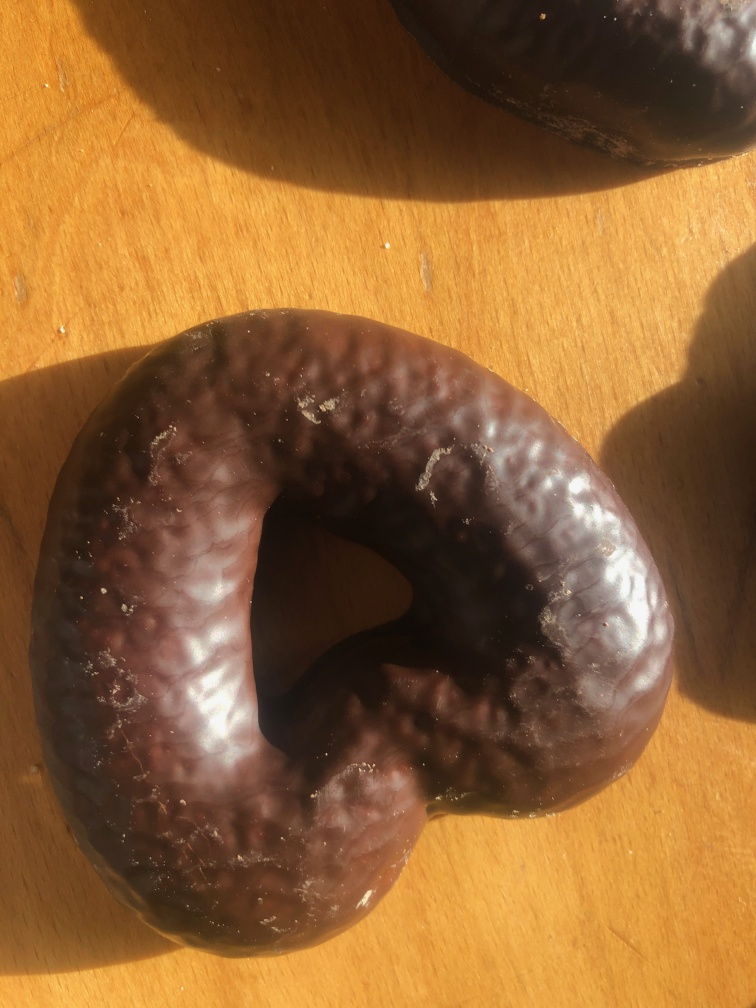heart: (22, 297, 688, 960)
